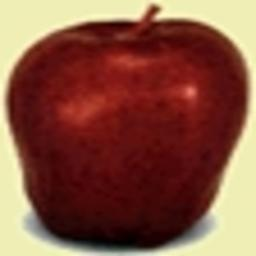apple: (3, 5, 248, 244)
